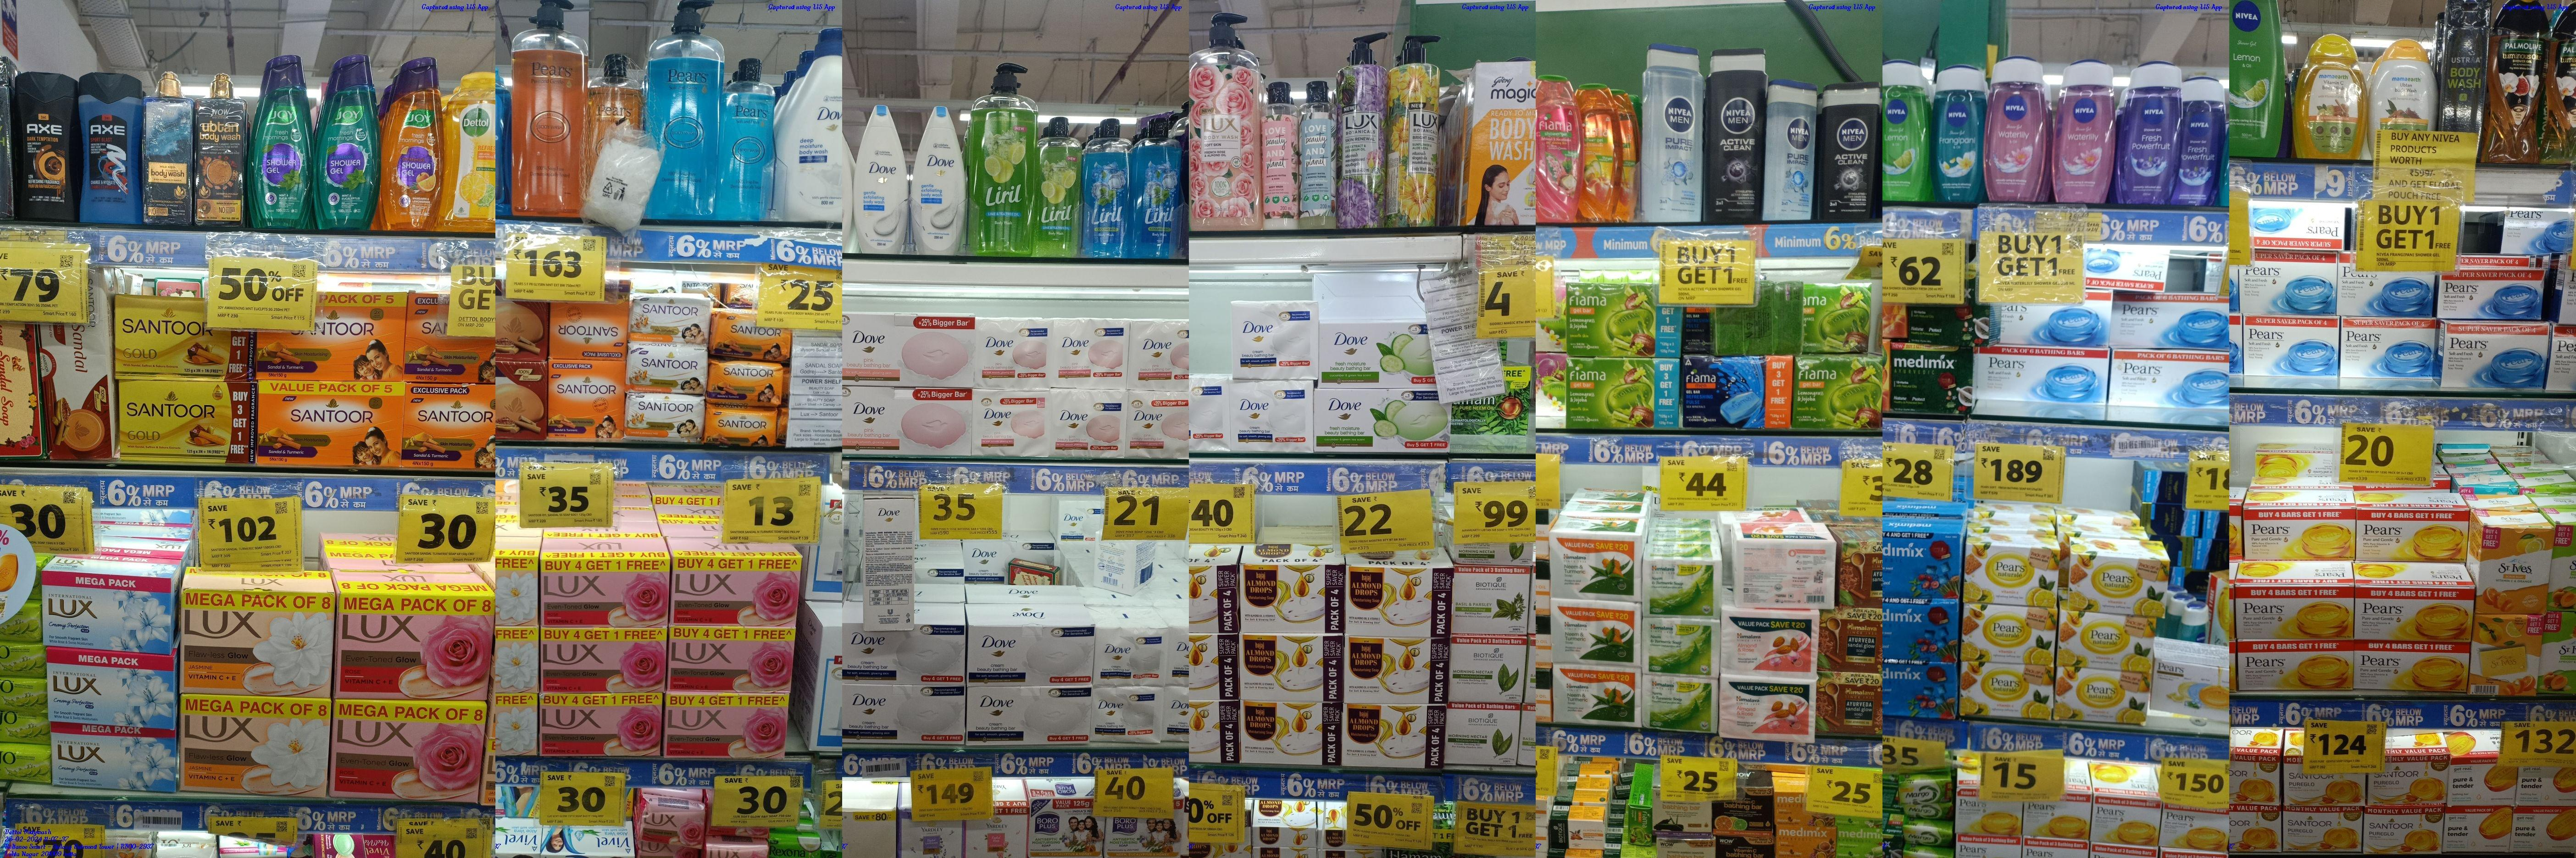Dettol_Bodywash_Refresh: (447, 72, 495, 230)
Joy_Shower_Gel_Mandarin_and_Lemongrass_250ML: (383, 58, 442, 232)
Liril_Cooling_Mint_Body_Wash_250ML: (315, 54, 381, 230), (250, 54, 314, 228)
